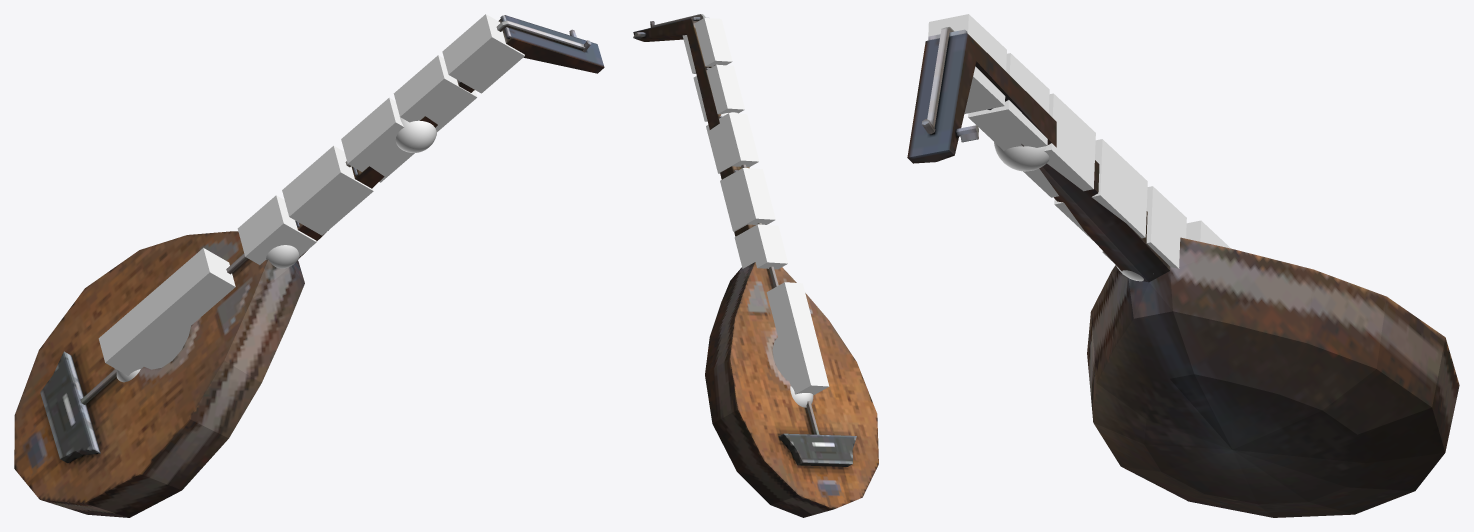
File: BardLuteAnchor.fbx
The picture shows the model from 3 angles, left to right: view 1: azimuth 30°, elevation 25°; view 2: azimuth 150°, elevation 25°; view 3: azimuth 270°, elevation 25°; orthographic projection. The views are drawn at different scales.
Parts seen in each view (by area): view 1: Offset, StrumBar, Fret4, Fret1, Fret2, Fret3, Fret5, UnstickDistance; view 2: Offset, StrumBar, Fret4, Fret3, Fret5, Fret2, Fret1; view 3: Offset, Fret3, Fret4, Fret2, Fret1, Fret5, UnstickDistance, StrumBar.
Part boxes in pixels (x1,y1,x2,y2): Offset: [14, 15, 604, 517]; StrumBar: [98, 248, 235, 375]; Fret4: [282, 145, 373, 235]; Fret1: [442, 14, 524, 93]; Fret2: [393, 55, 477, 132]; Fret3: [341, 97, 414, 182]; Fret5: [237, 195, 316, 264]; UnstickDistance: [395, 116, 436, 152]; Offset: [633, 14, 878, 517]; StrumBar: [766, 282, 829, 395]; Fret4: [720, 168, 775, 231]; Fret3: [706, 113, 759, 173]; Fret5: [734, 224, 788, 269]; Fret2: [693, 64, 744, 121]; Fret1: [682, 18, 732, 73]; Offset: [907, 27, 1459, 517]; Fret3: [1023, 93, 1095, 197]; Fret4: [1054, 139, 1147, 241]; Fret2: [968, 53, 1049, 150]; Fret1: [928, 14, 1006, 113]; Fret5: [1102, 186, 1186, 268]; UnstickDistance: [994, 142, 1049, 171]; StrumBar: [1186, 220, 1230, 248].
Bounding box in the file's own units: 53.11 × 59.96 × 43.44.
